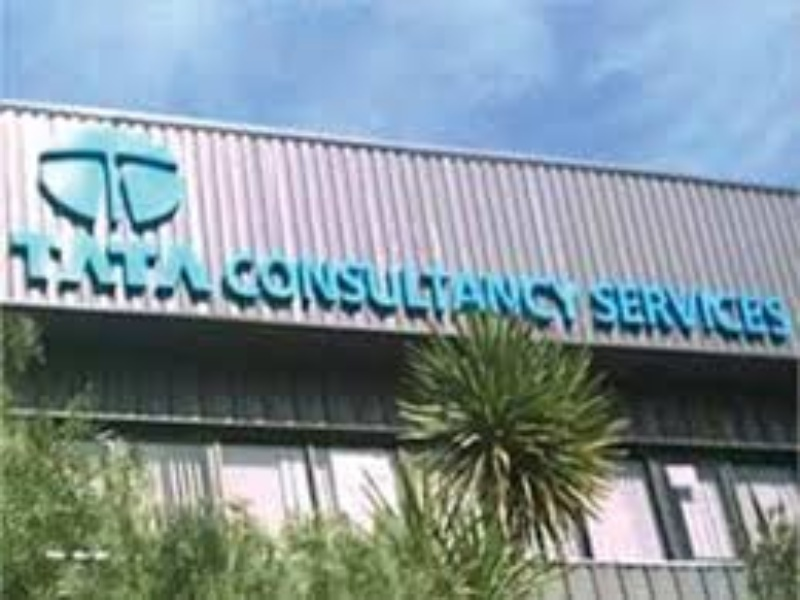tcs: (31, 122, 195, 232)
